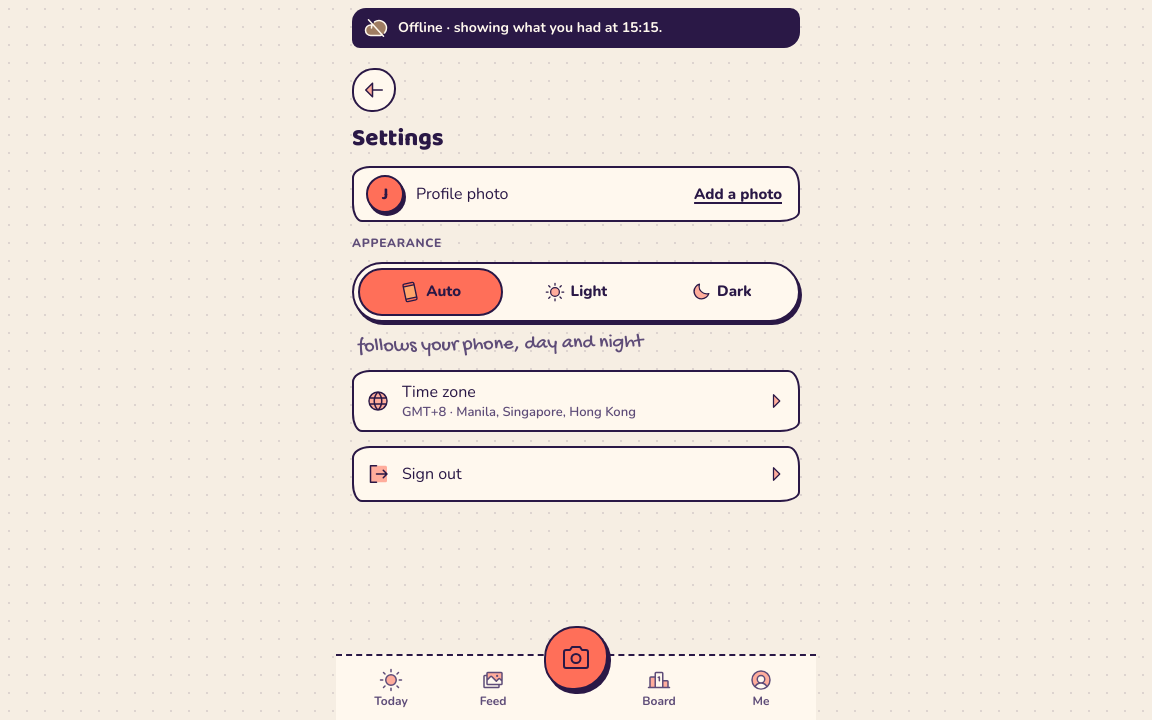
sign-out before the outbox has loaded › reads the store first, so the waiting photos are never deleted unwarned
Click the button "Sign out". click: (432, 474)
box: left=354, top=448, right=798, bottom=500
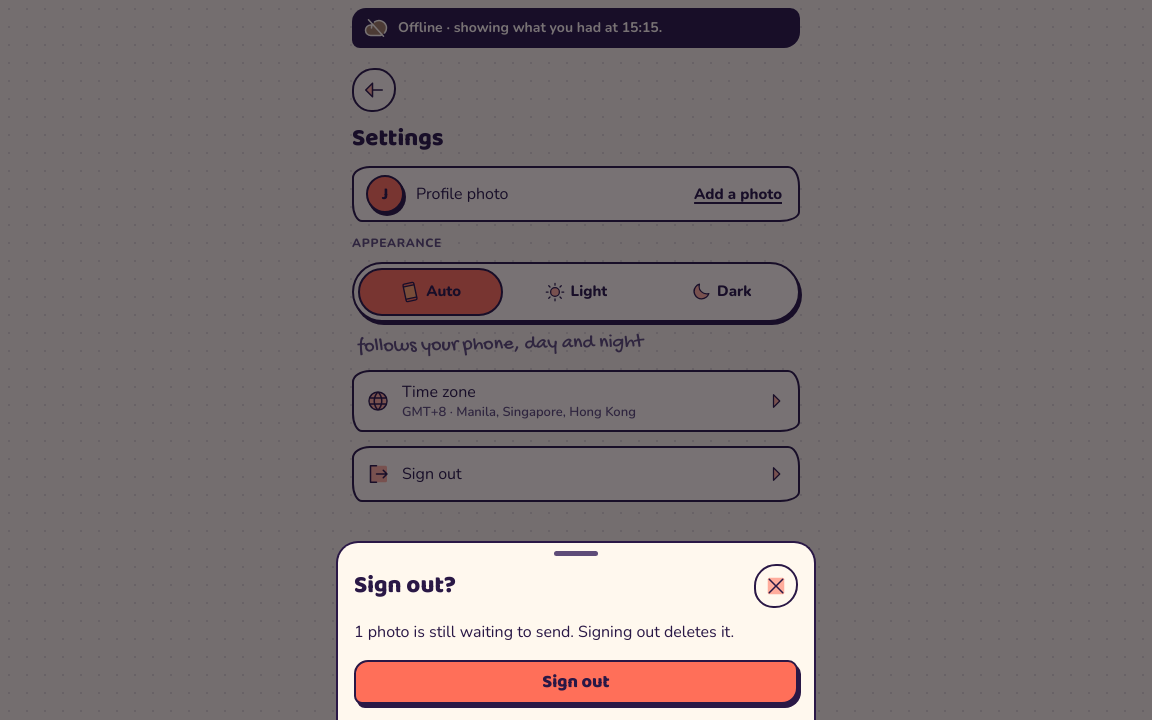
Result: the text "1 photo is still waiting to send. Signing out deletes it." is shown at left=354, top=620, right=798, bottom=644
